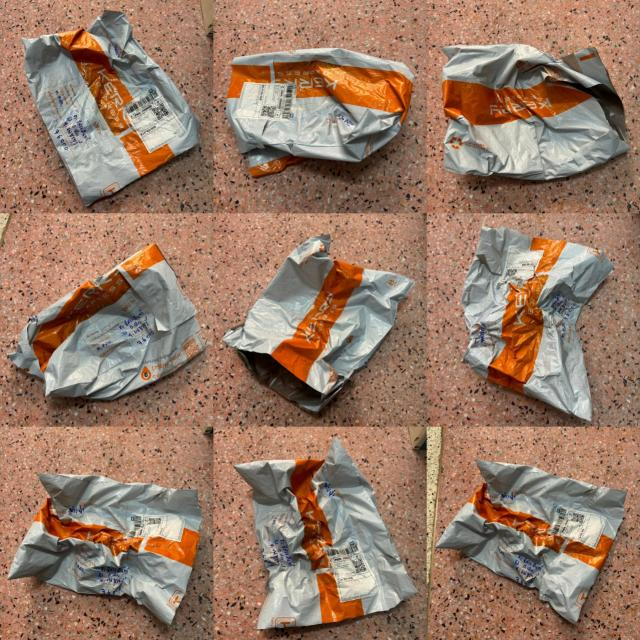Single-layer Plastic: (22, 11, 200, 205), (235, 438, 416, 628), (222, 235, 414, 412), (436, 460, 626, 624), (9, 245, 209, 399), (462, 228, 612, 420), (9, 474, 201, 624), (441, 44, 630, 180), (226, 49, 414, 178)
